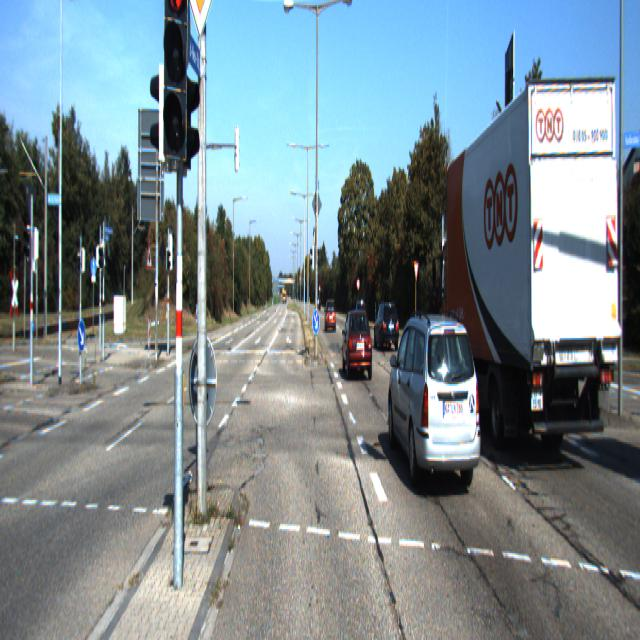Car: (433, 68, 621, 483), (387, 310, 485, 507), (342, 308, 372, 383), (373, 300, 400, 352), (324, 299, 336, 332)
